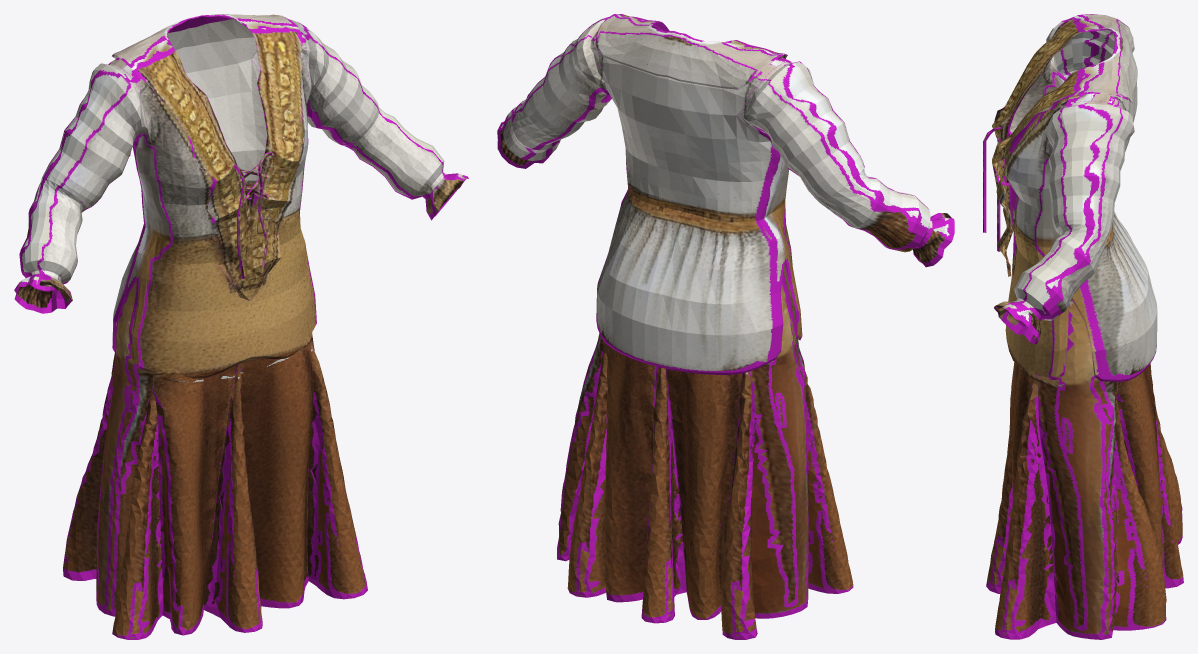
3 renders of one model, left to right at view 1: azimuth 30°, elevation 25°; view 2: azimuth 150°, elevation 25°; view 3: azimuth 270°, elevation 25°, orthographic. The views are drawn at different scales.
Size of the model in its own units: 0.857 by 1.03 by 0.3393.
Materials: 1 (1 with a texture image).
